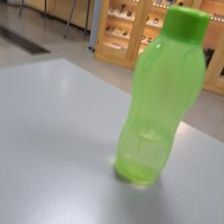bottle: (112, 7, 209, 186)
